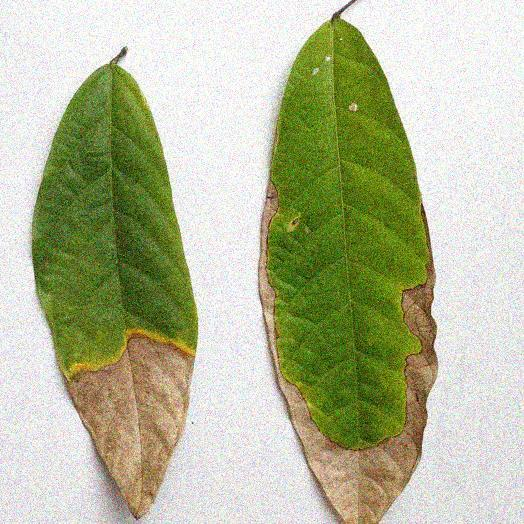Potassium: (259, 0, 436, 523), (32, 49, 197, 517)
